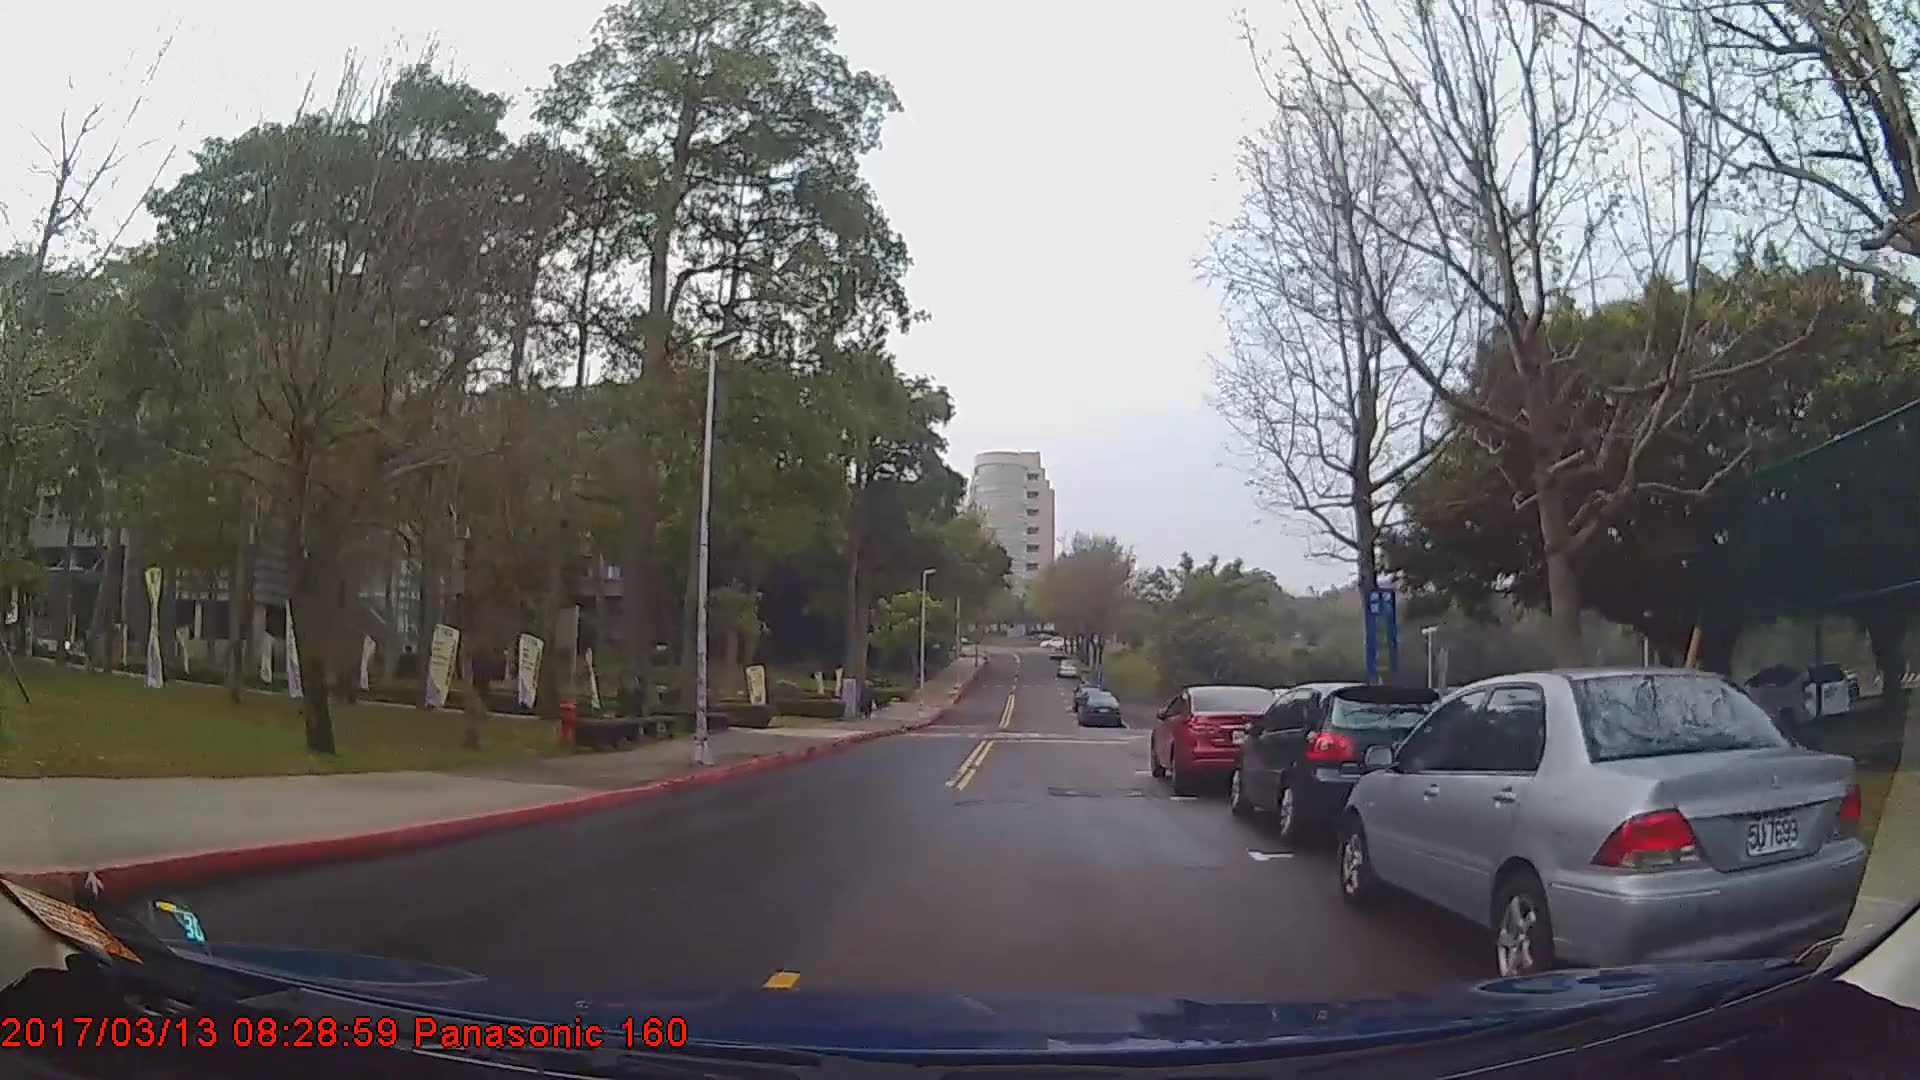vehicle: (1338, 669, 1869, 985), (1229, 676, 1458, 832), (1149, 679, 1296, 793), (1742, 661, 1851, 725), (1079, 688, 1124, 727)
